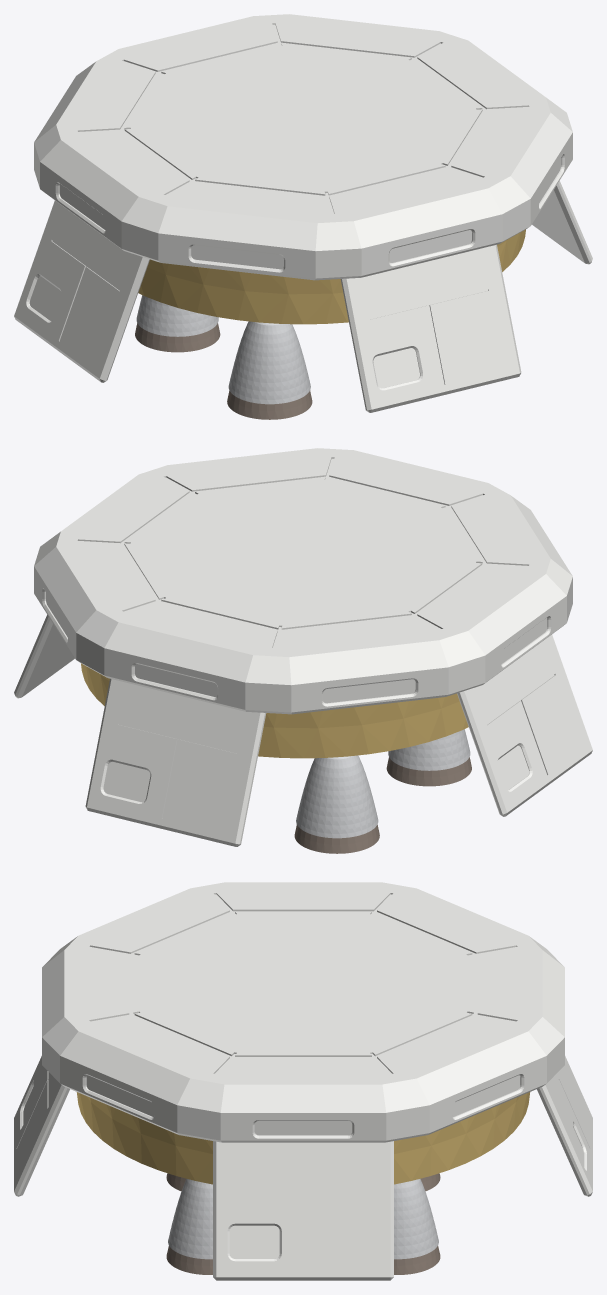
Rendered from ax_prop_02_hopper_cluster.glb.
3 views of the same model, one above another, from view 1: azimuth 30°, elevation 25°; view 2: azimuth 150°, elevation 25°; view 3: azimuth 270°, elevation 25° (orthographic).
Visible parts, largest first — view 1: thrust_plate, deflector_skirt_4, deflector_skirt_3, mli_skirt, nozzles, nozzle_lips, deflector_skirt_1; view 2: thrust_plate, deflector_skirt_2, deflector_skirt_3, mli_skirt, nozzles, nozzle_lips, deflector_skirt_1; view 3: thrust_plate, deflector_skirt_1, mli_skirt, nozzles, deflector_skirt_2, deflector_skirt_4, nozzle_lips.
Part boxes in pixels (box(x1,y1,x2,y2)): thrust_plate: box(34, 14, 572, 280); deflector_skirt_4: box(340, 244, 521, 412); deflector_skirt_3: box(14, 200, 149, 382); mli_skirt: box(138, 229, 525, 324); nozzles: box(136, 295, 310, 404); nozzle_lips: box(135, 323, 312, 419); deflector_skirt_1: box(532, 180, 592, 264); thrust_plate: box(34, 448, 572, 714); deflector_skirt_2: box(85, 678, 266, 846); deflector_skirt_3: box(457, 634, 592, 816); mli_skirt: box(81, 663, 468, 758); nozzles: box(296, 729, 470, 838); nozzle_lips: box(294, 757, 471, 853); deflector_skirt_1: box(14, 614, 74, 698); thrust_plate: box(42, 882, 564, 1142); deflector_skirt_1: box(213, 1141, 393, 1280); mli_skirt: box(76, 1092, 530, 1184); nozzles: box(168, 1179, 438, 1259); deflector_skirt_2: box(537, 1056, 592, 1196); deflector_skirt_4: box(14, 1056, 69, 1196); nozzle_lips: box(166, 1173, 440, 1274).
Size of the model in its own units: 4.15 by 1.85 by 4.15.
